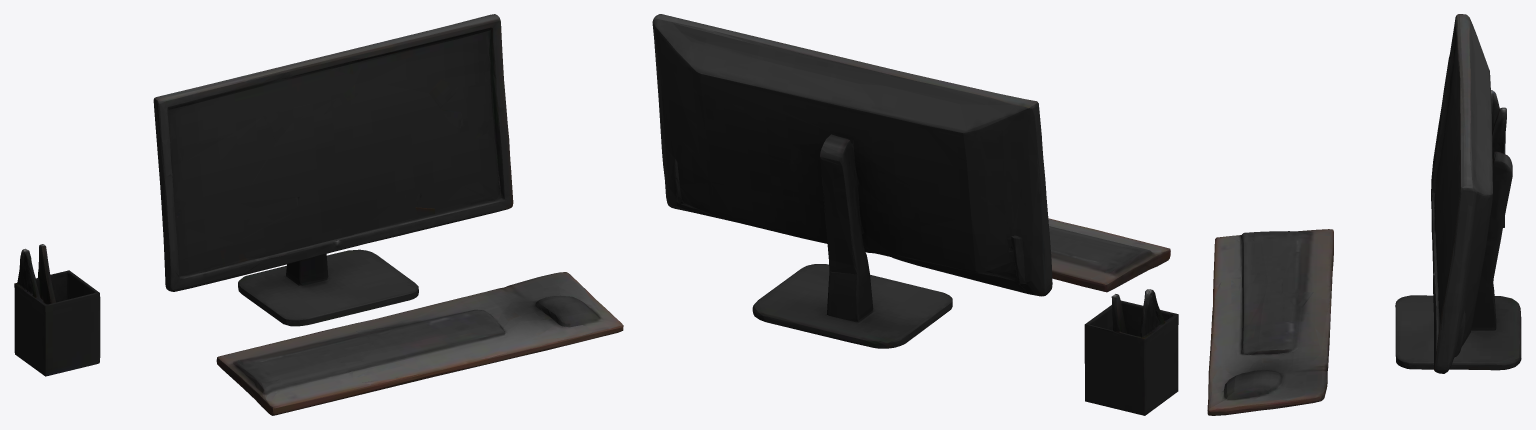
Rendered from desk_keyboard_monitor_pencup.glb.
The picture shows the model from 3 angles, left to right: view 1: azimuth 30°, elevation 25°; view 2: azimuth 150°, elevation 25°; view 3: azimuth 270°, elevation 25°; orthographic projection. The views are drawn at different scales.
Parts seen in each view (by area): view 1: geometry_0; view 2: geometry_0; view 3: geometry_0.
Boxes of the visible parts, x1,y1,x2,y2 form: geometry_0: (14,14,623,415); geometry_0: (652,14,1178,415); geometry_0: (1207,14,1521,415).
Size of the model in its own units: 0.9991 by 0.4953 by 0.5694.
Materials: 1 (1 with a texture image).
